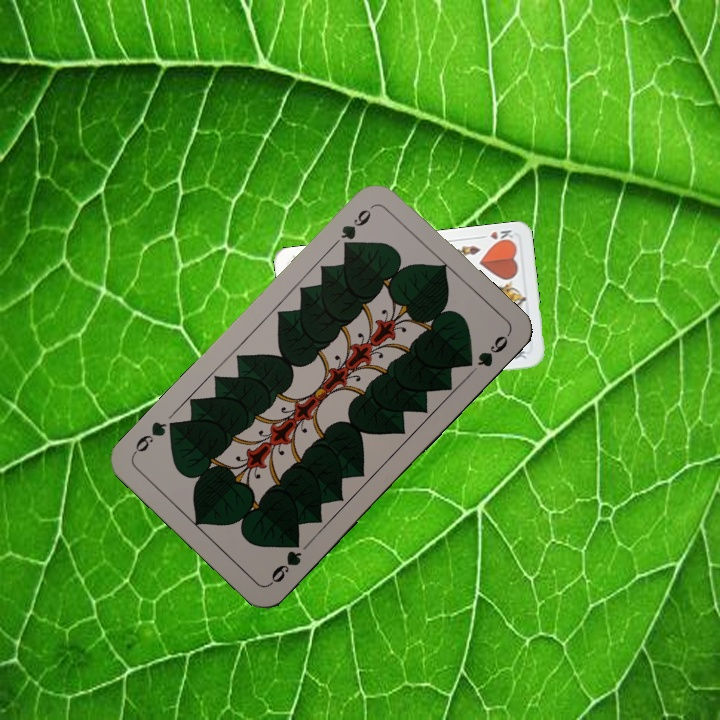G9: (336, 202, 376, 254), (266, 534, 304, 588)
HK: (475, 226, 516, 247)
